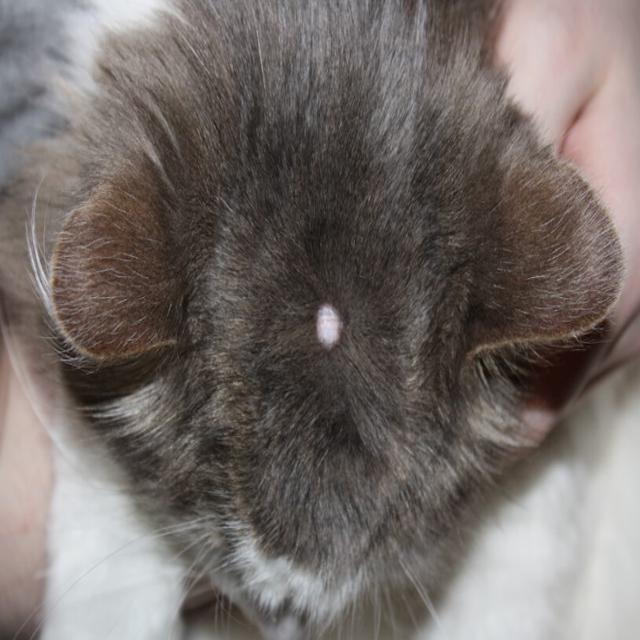lump_and_bump: (318, 298, 343, 350)
